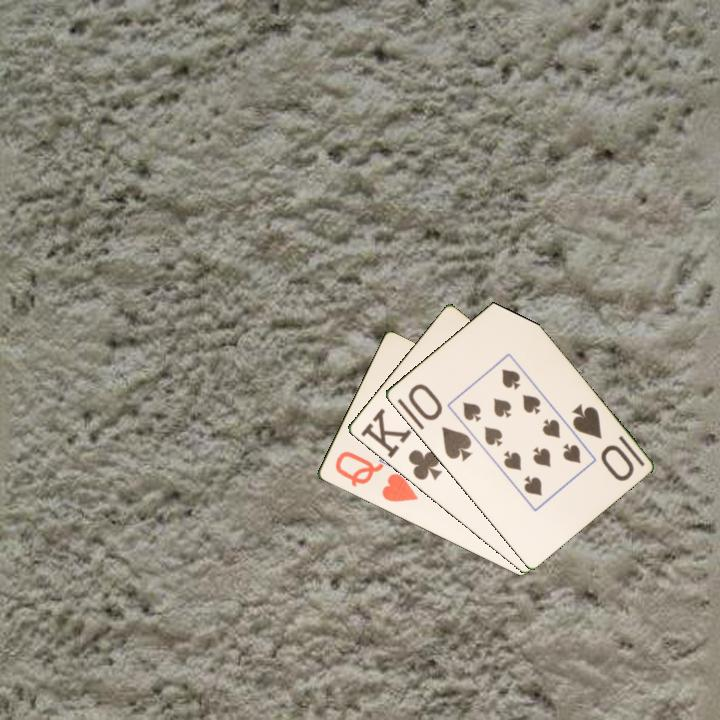10s: (404, 380, 475, 464), (568, 400, 637, 484)
Kc: (357, 405, 445, 483)
Qh: (331, 448, 420, 505)
